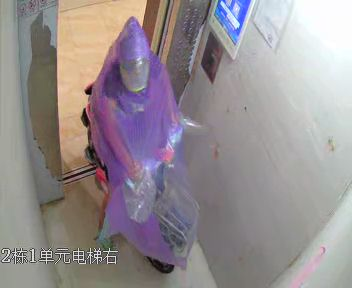Electric-bicycle: (85, 80, 197, 267)
